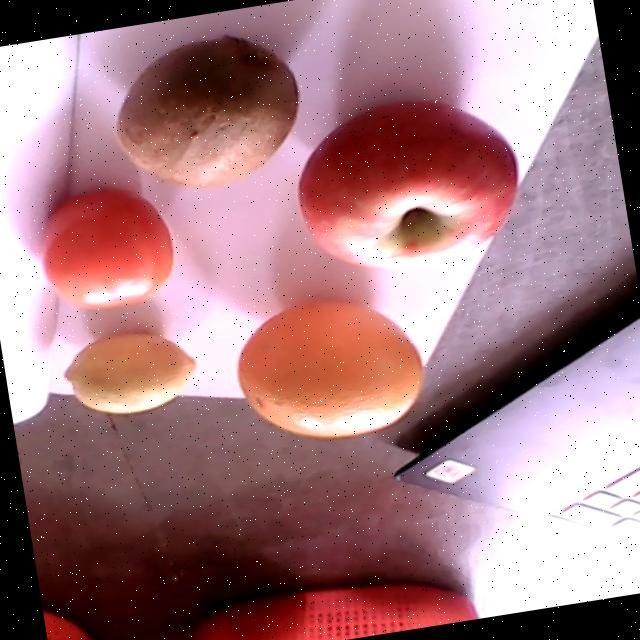apple: (297, 100, 516, 270)
kiwi: (115, 35, 298, 188)
lemon: (64, 333, 194, 414)
orange: (237, 302, 422, 438)
tomato: (45, 190, 173, 310)
